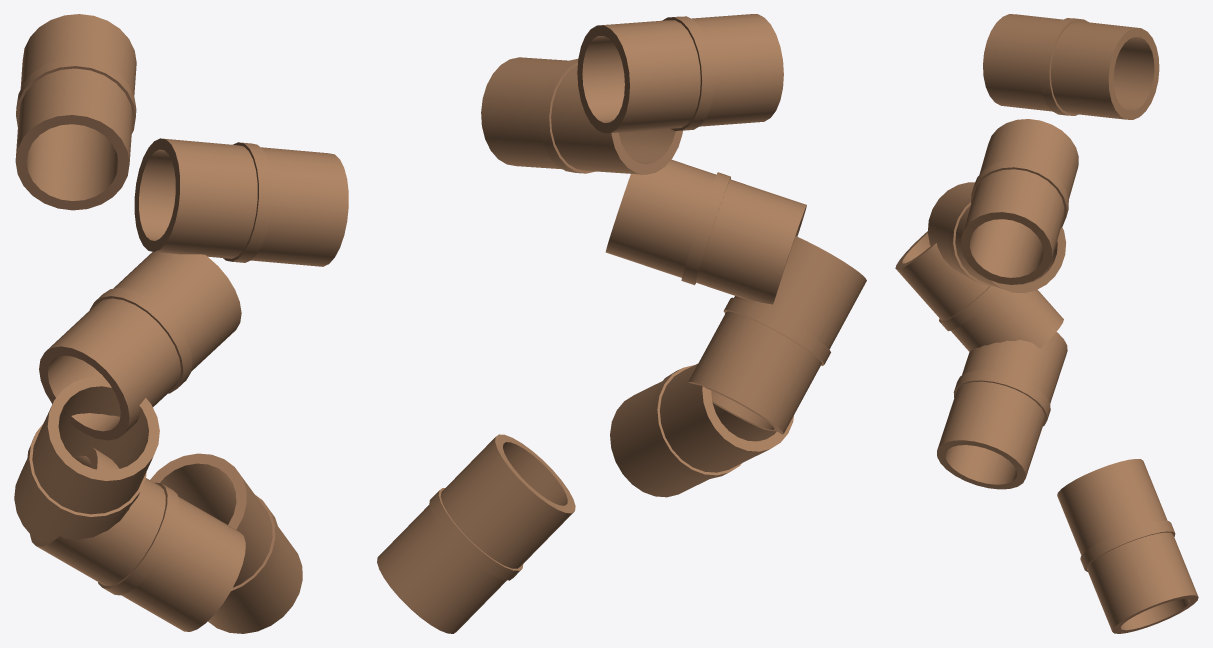
Rendered from HID-CNX-004_anim.glb.
3 renders of one model, left to right at view 1: azimuth 30°, elevation 25°; view 2: azimuth 150°, elevation 25°; view 3: azimuth 270°, elevation 25°, orthographic. The views are drawn at different scales.
Parts seen in each view (by area): view 1: HID-CNX-004_anim4, HID-CNX-004_anim3, HID-CNX-004_anim5, HID-CNX-004_anim1, HID-CNX-004_anim2, HID-CNX-004_anim0; view 2: HID-CNX-004_anim5, HID-CNX-004_anim0, HID-CNX-004_anim3, HID-CNX-004_anim2, HID-CNX-004_anim4, HID-CNX-004_anim1; view 3: HID-CNX-004_anim5, HID-CNX-004_anim0, HID-CNX-004_anim4, HID-CNX-004_anim1, HID-CNX-004_anim2, HID-CNX-004_anim3.
Boxes of the visible parts, x1,y1,x2,y2 form: HID-CNX-004_anim4: (134,138,348,266); HID-CNX-004_anim3: (39,252,241,440); HID-CNX-004_anim5: (15,14,136,210); HID-CNX-004_anim1: (30,447,245,631); HID-CNX-004_anim2: (14,376,159,542); HID-CNX-004_anim0: (150,453,302,633); HID-CNX-004_anim5: (577,14,783,133); HID-CNX-004_anim0: (377,434,575,633); HID-CNX-004_anim3: (605,159,806,304); HID-CNX-004_anim2: (688,236,866,434); HID-CNX-004_anim4: (481,57,682,174); HID-CNX-004_anim1: (610,363,793,497); HID-CNX-004_anim5: (983,14,1159,119); HID-CNX-004_anim0: (1057,459,1198,633); HID-CNX-004_anim4: (961,119,1078,284); HID-CNX-004_anim1: (937,332,1067,489); HID-CNX-004_anim2: (895,231,1063,351); HID-CNX-004_anim3: (927,182,1065,292).
Size of the model in its own units: 0.1167 by 0.1979 by 0.101.
